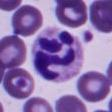N: (32, 28, 85, 82)
